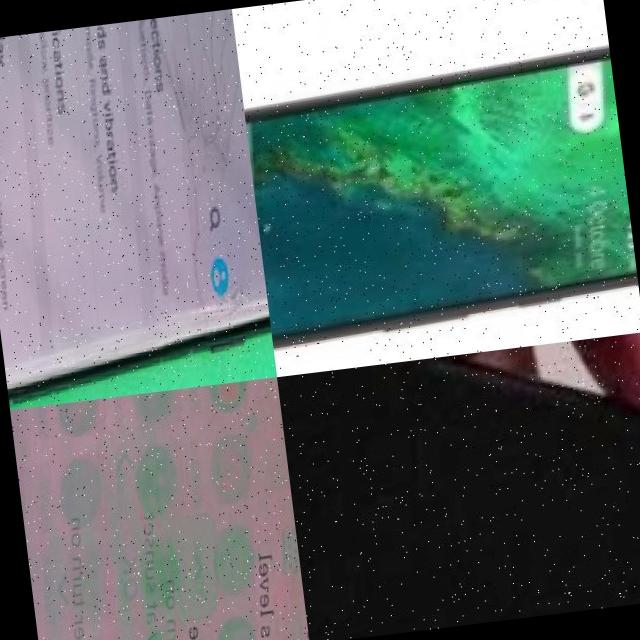screen crack: (78, 9, 268, 341)
